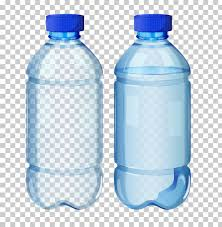available: (24, 13, 105, 213), (113, 13, 192, 212)
